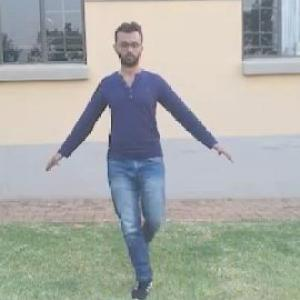land: (42, 17, 222, 289)
